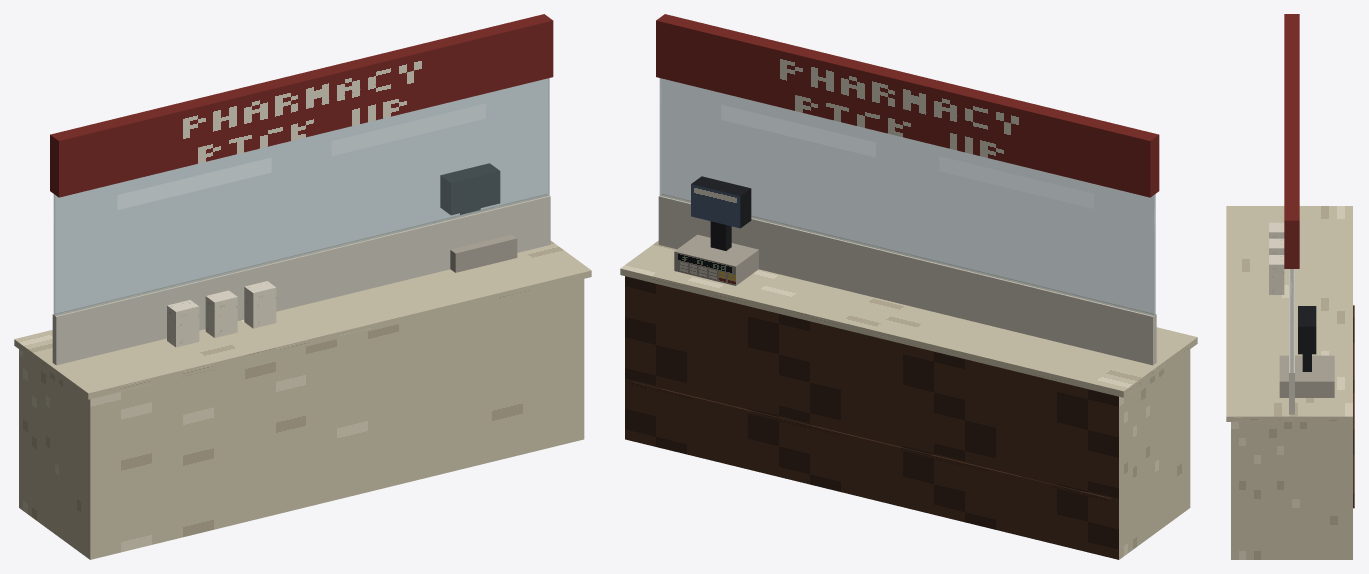
File: COM_PharmacyCounter.glb
The picture shows the model from 3 angles, left to right: view 1: azimuth 30°, elevation 25°; view 2: azimuth 150°, elevation 25°; view 3: azimuth 270°, elevation 25°; orthographic projection. The views are drawn at different scales.
Visible parts, largest first — view 1: COM_PharmacyCounter_Mesh; view 2: COM_PharmacyCounter_Mesh; view 3: COM_PharmacyCounter_Mesh.
Boxes of the visible parts, x1=… form: COM_PharmacyCounter_Mesh: x1=14, y1=14, x2=591, y2=559; COM_PharmacyCounter_Mesh: x1=620, y1=14, x2=1197, y2=559; COM_PharmacyCounter_Mesh: x1=1226, y1=14, x2=1354, y2=559.
Size of what is drawn, in the model's own units: 3.26 by 2.45 by 0.84.
2 materials, 2 textured.
